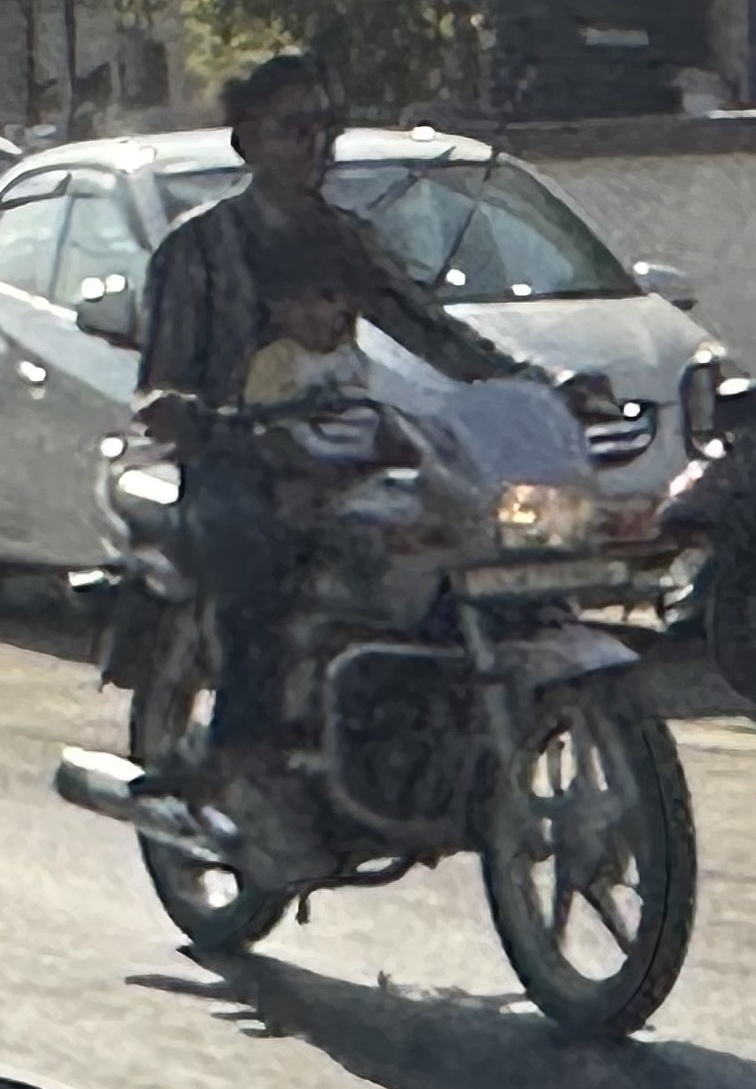BikeWithRider: (39, 28, 729, 1054)
NoHelmet: (202, 40, 353, 201), (264, 236, 363, 366)
